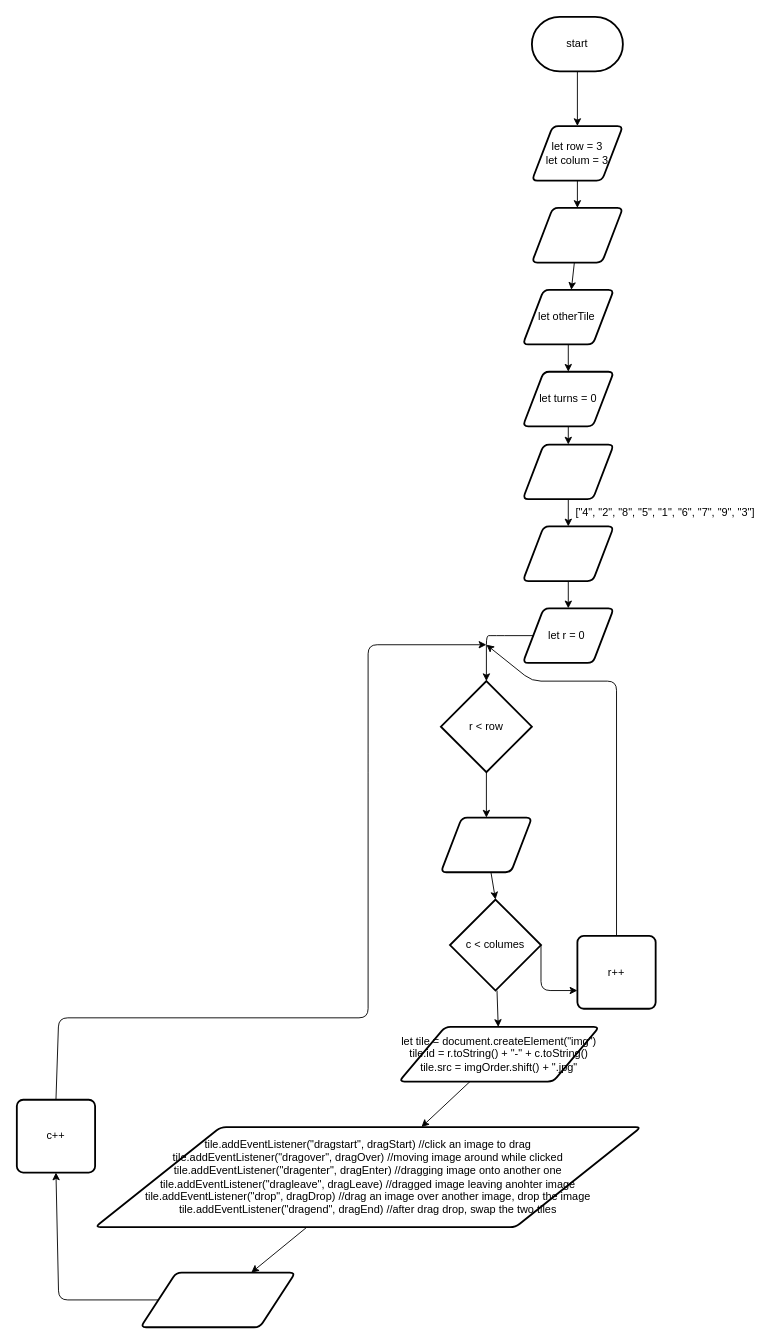
The diagram is 784 pixels wide and 1343 high, and some of its shapes have lost their labels. Here are the shapes that lost their labels. From the top down, the centre of each, then its label:
the point at 577,235: let currTile =
the point at 567,471: let imgOrder =
the point at 567,553: window.onload = function
the point at 486,844: let c = 0
the point at 217,1299: document.getElementById("board").append(tile)
